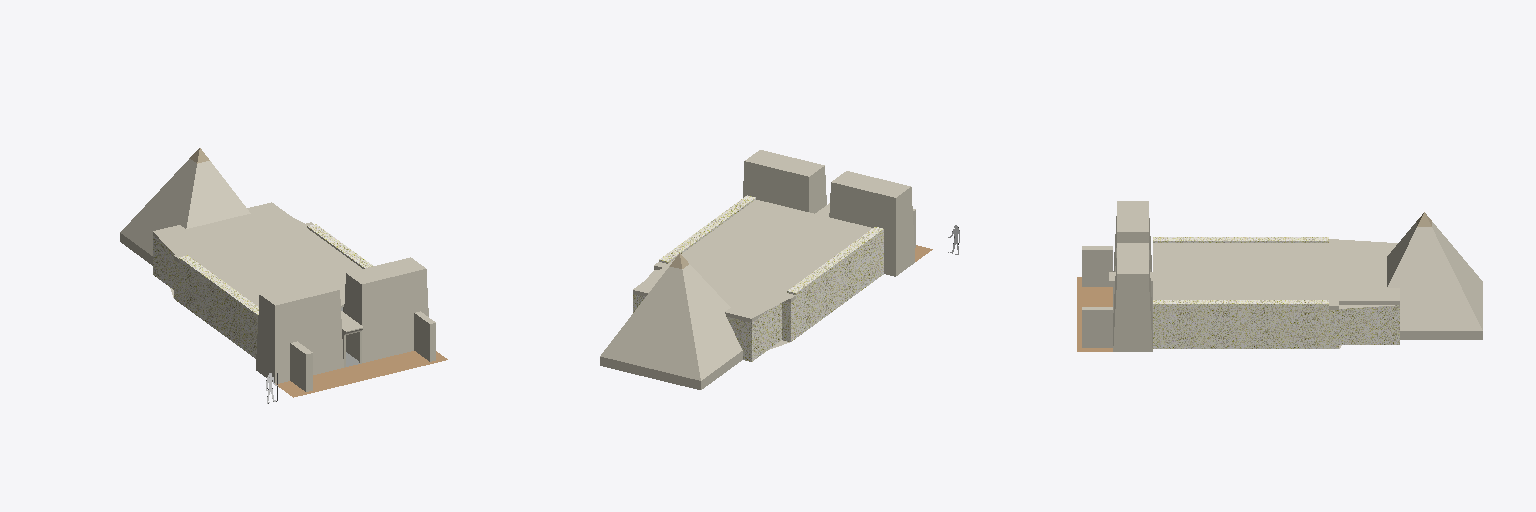
3 renders of one model, left to right at view 1: azimuth 30°, elevation 25°; view 2: azimuth 150°, elevation 25°; view 3: azimuth 270°, elevation 25°, orthographic.
Visible parts, largest first — view 1: Mesh19 main1 Model, Mesh17 ROOF1 Model, Mesh20 Model, Mesh14 Back_Roof1 Model, Mesh18 PylonGateway1 Model; view 2: Mesh19 main1 Model, Mesh20 Model, Mesh17 ROOF1 Model, Mesh14 Back_Roof1 Model; view 3: Mesh19 main1 Model, Mesh17 ROOF1 Model, Mesh20 Model, Mesh14 Back_Roof1 Model.
Part boxes in pixels (left/top/right/bottom): Mesh19 main1 Model: left=153, top=224, right=447, bottom=397; Mesh17 ROOF1 Model: left=191, top=228, right=361, bottom=307; Mesh20 Model: left=120, top=148, right=250, bottom=265; Mesh14 Back_Roof1 Model: left=153, top=202, right=313, bottom=262; Mesh18 PylonGateway1 Model: left=341, top=311, right=363, bottom=367; Mesh19 main1 Model: left=654, top=150, right=932, bottom=361; Mesh20 Model: left=600, top=253, right=751, bottom=389; Mesh17 ROOF1 Model: left=668, top=200, right=872, bottom=292; Mesh14 Back_Roof1 Model: left=633, top=262, right=795, bottom=322; Mesh19 main1 Model: left=1077, top=201, right=1399, bottom=351; Mesh17 ROOF1 Model: left=1153, top=243, right=1328, bottom=299; Mesh20 Model: left=1387, top=212, right=1482, bottom=339; Mesh14 Back_Roof1 Model: left=1329, top=239, right=1399, bottom=309.
Size of the model in its own units: 10.1 by 5.5 by 19.49.
Materials: 8 (3 with a texture image).